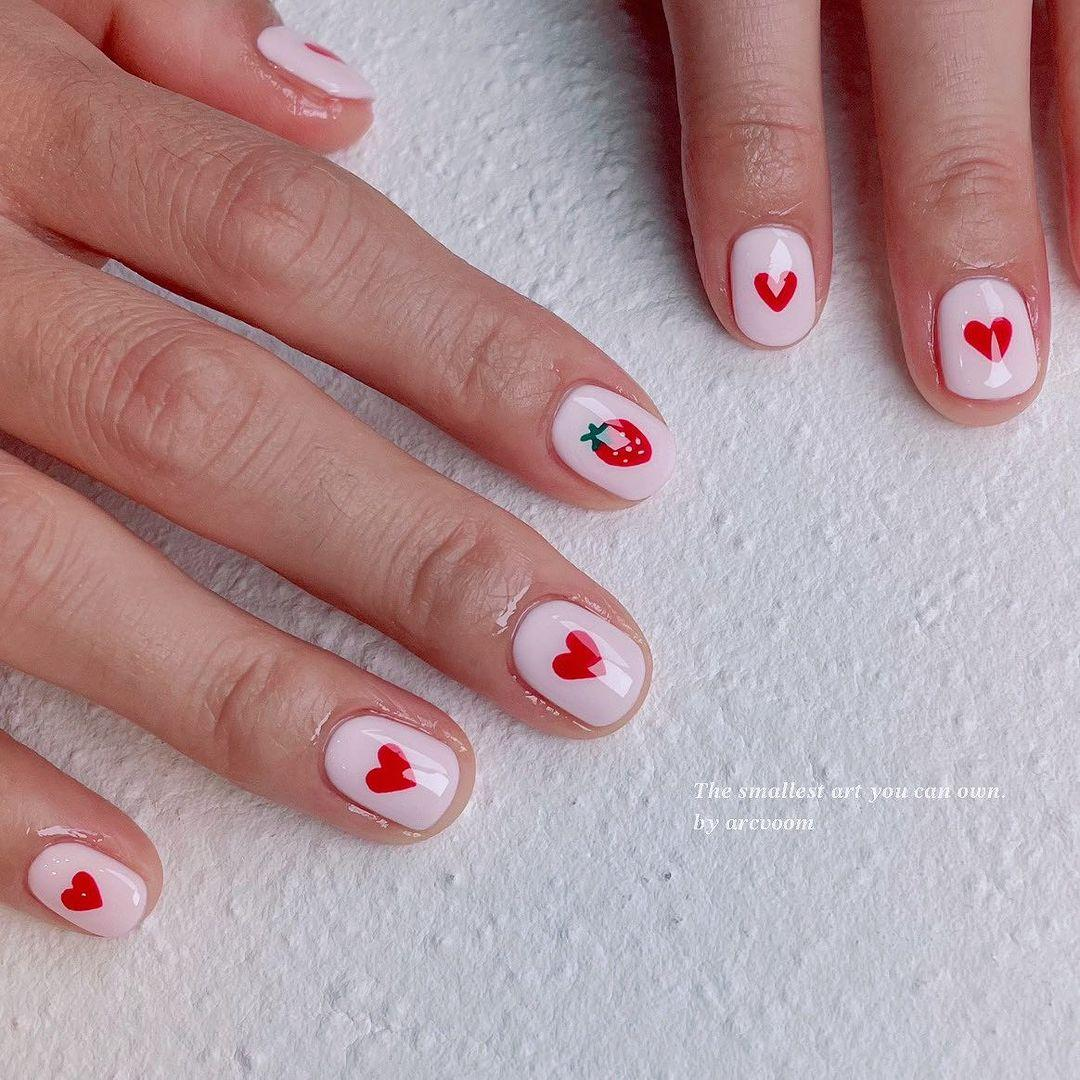nail: (507, 593, 649, 731), (319, 707, 463, 834), (547, 380, 675, 501), (937, 278, 1038, 401), (25, 839, 147, 938), (725, 221, 818, 347), (255, 23, 376, 102)
